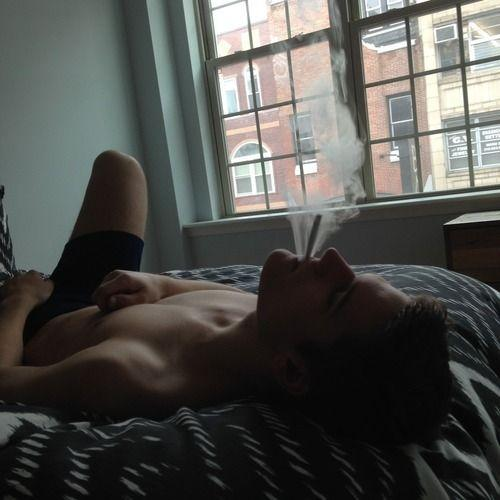cigarette: (305, 214, 322, 260)
